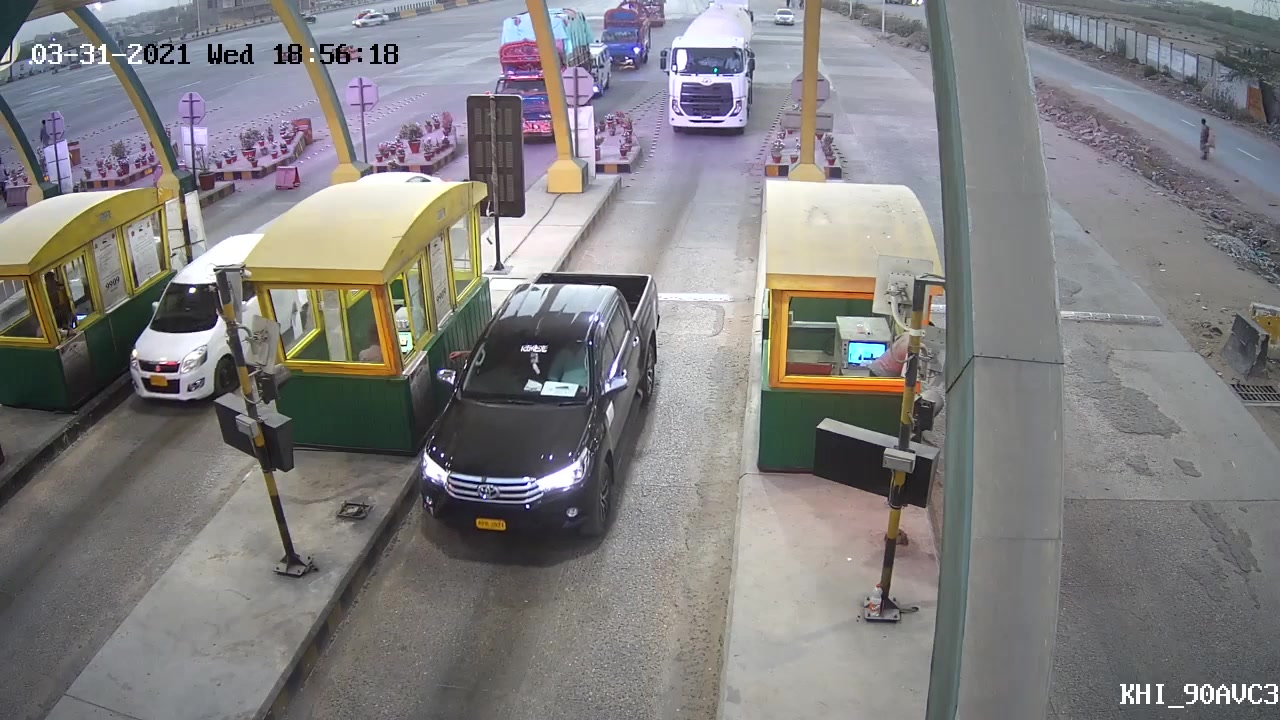F1: (414, 270, 670, 548)
